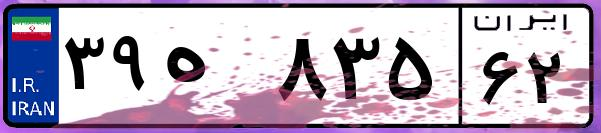2: (525, 38, 570, 115)
3: (330, 28, 385, 110), (57, 26, 110, 100)
5: (385, 28, 445, 110)
6: (475, 38, 525, 113)
8: (270, 28, 330, 110)
9: (110, 28, 158, 98)
ه: (158, 20, 270, 120)
